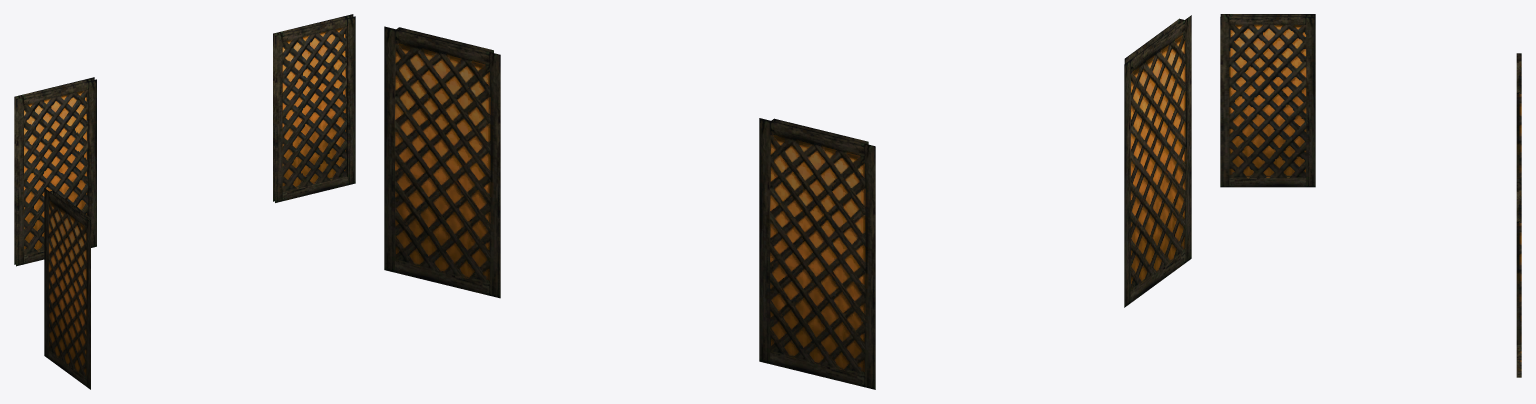
Rendered from LAKETOWN_EXTERIOR_PS_LT_WINDOW_LONG_LOD1_78.fbx.
The picture shows the model from 3 angles, left to right: view 1: azimuth 30°, elevation 25°; view 2: azimuth 150°, elevation 25°; view 3: azimuth 270°, elevation 25°; orthographic projection. The views are drawn at different scales.
Parts seen in each view (by area): view 1: LAKETOWN_EXTERIOR_PS_LT_WINDOW_LONG_LOD1_78; view 2: LAKETOWN_EXTERIOR_PS_LT_WINDOW_LONG_LOD1_78; view 3: LAKETOWN_EXTERIOR_PS_LT_WINDOW_LONG_LOD1_78.
Part boxes in pixels (x1,y1,x2,y2): LAKETOWN_EXTERIOR_PS_LT_WINDOW_LONG_LOD1_78: (14,14,355,389); LAKETOWN_EXTERIOR_PS_LT_WINDOW_LONG_LOD1_78: (384,15,1191,389); LAKETOWN_EXTERIOR_PS_LT_WINDOW_LONG_LOD1_78: (1220,14,1521,377).
Size of the model in its own units: 37878 by 14850 by 23630.
2 materials, 2 textured.
